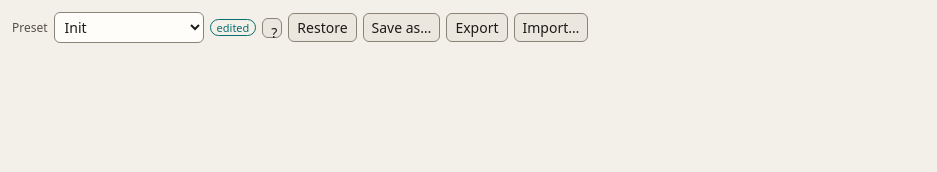
PresetMenu › Save as… asks for a name, saves a user preset and selects it
Click the button "Save as…": (402, 28) [363, 13, 440, 42]
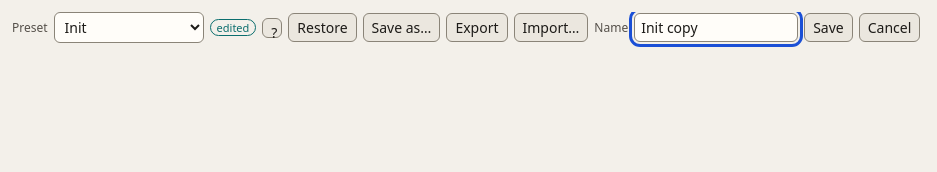
Replace the text in the field labelled "Name" with "My bass": (716, 28) [634, 13, 798, 42]
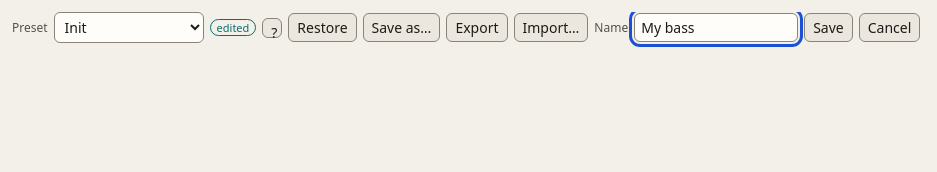
Click the button "Save": (828, 28) [804, 13, 853, 42]
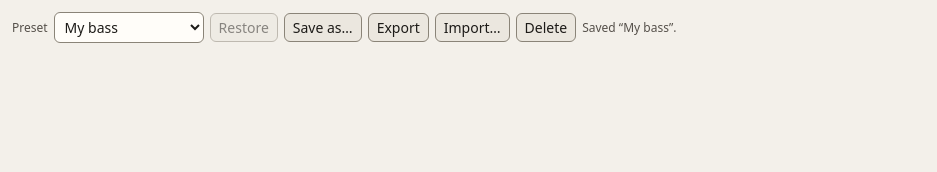
Expected: the label labelled "Name" is gone
Expected: the button "Delete" is shown, [516, 13, 576, 42]
Expected: the message reads "Saved “My bass”.", [582, 19, 676, 36]
